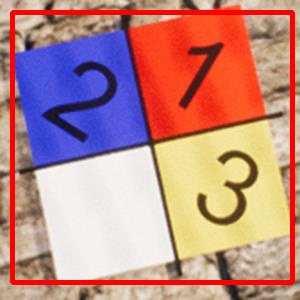nfpa: (12, 12, 292, 282)
